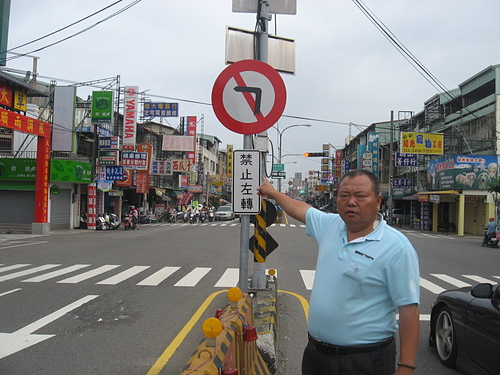No_left_turn: (211, 59, 287, 134)
